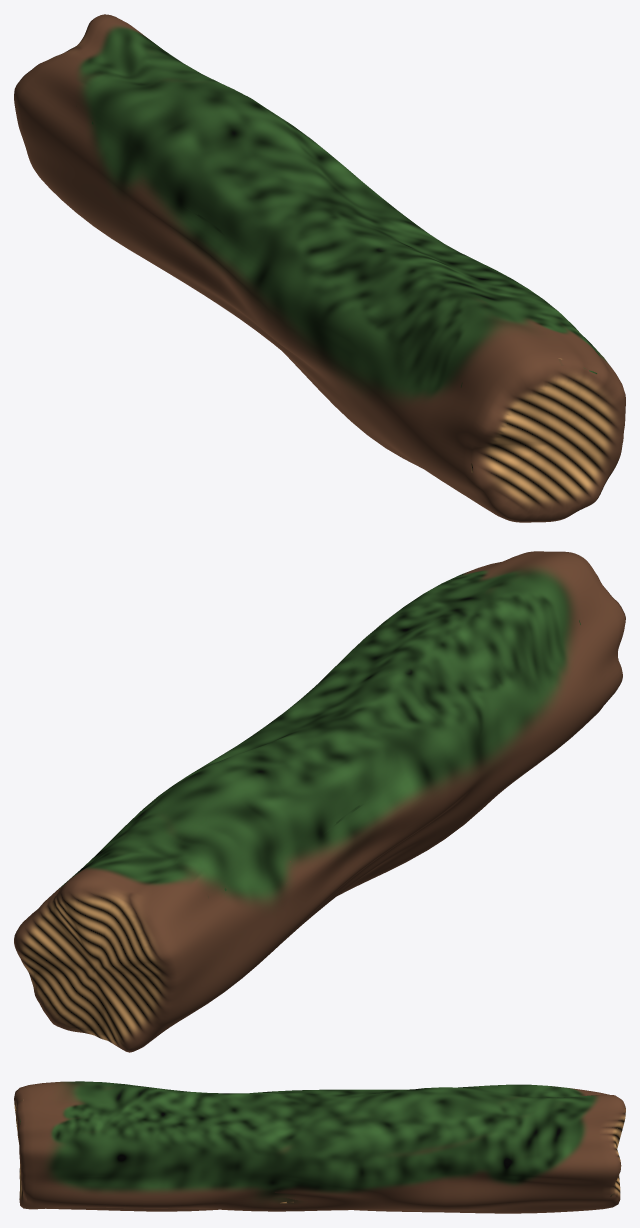
File: log.fbx
3 renders of one model, top to bottom at view 1: azimuth 30°, elevation 25°; view 2: azimuth 150°, elevation 25°; view 3: azimuth 270°, elevation 25°, orthographic. The views are drawn at different scales.
Parts seen in each view (by area): view 1: Cylinder; view 2: Cylinder; view 3: Cylinder.
Part boxes in pixels (box(x1,y1,x2,y2)): Cylinder: box(14, 14, 625, 522); Cylinder: box(14, 551, 625, 1052); Cylinder: box(14, 1081, 625, 1213).
Size of the model in its own units: 204 by 211 by 935.
